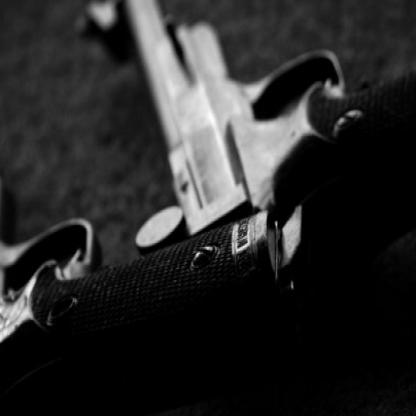gun: (77, 0, 415, 305), (0, 79, 294, 415)
